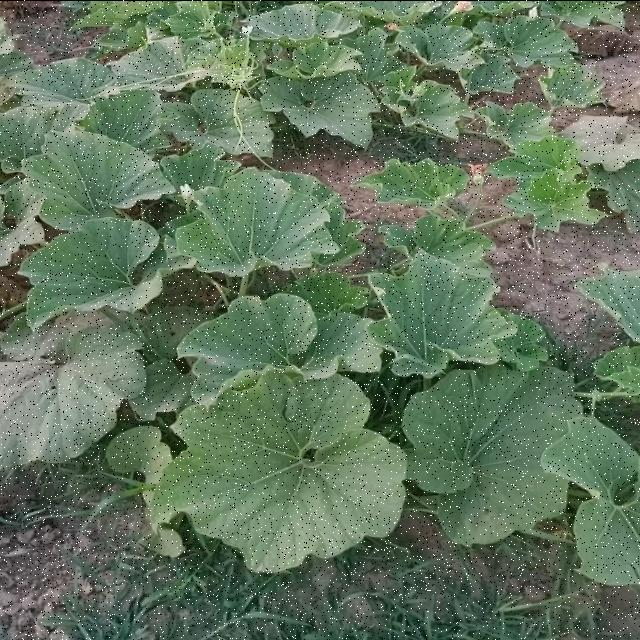plant: (0, 0, 637, 571)
